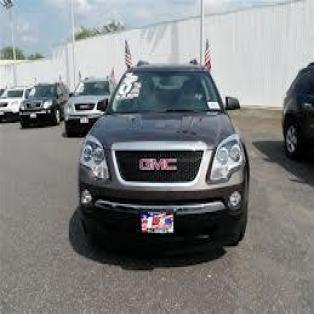Auto: (73, 62, 249, 258)
